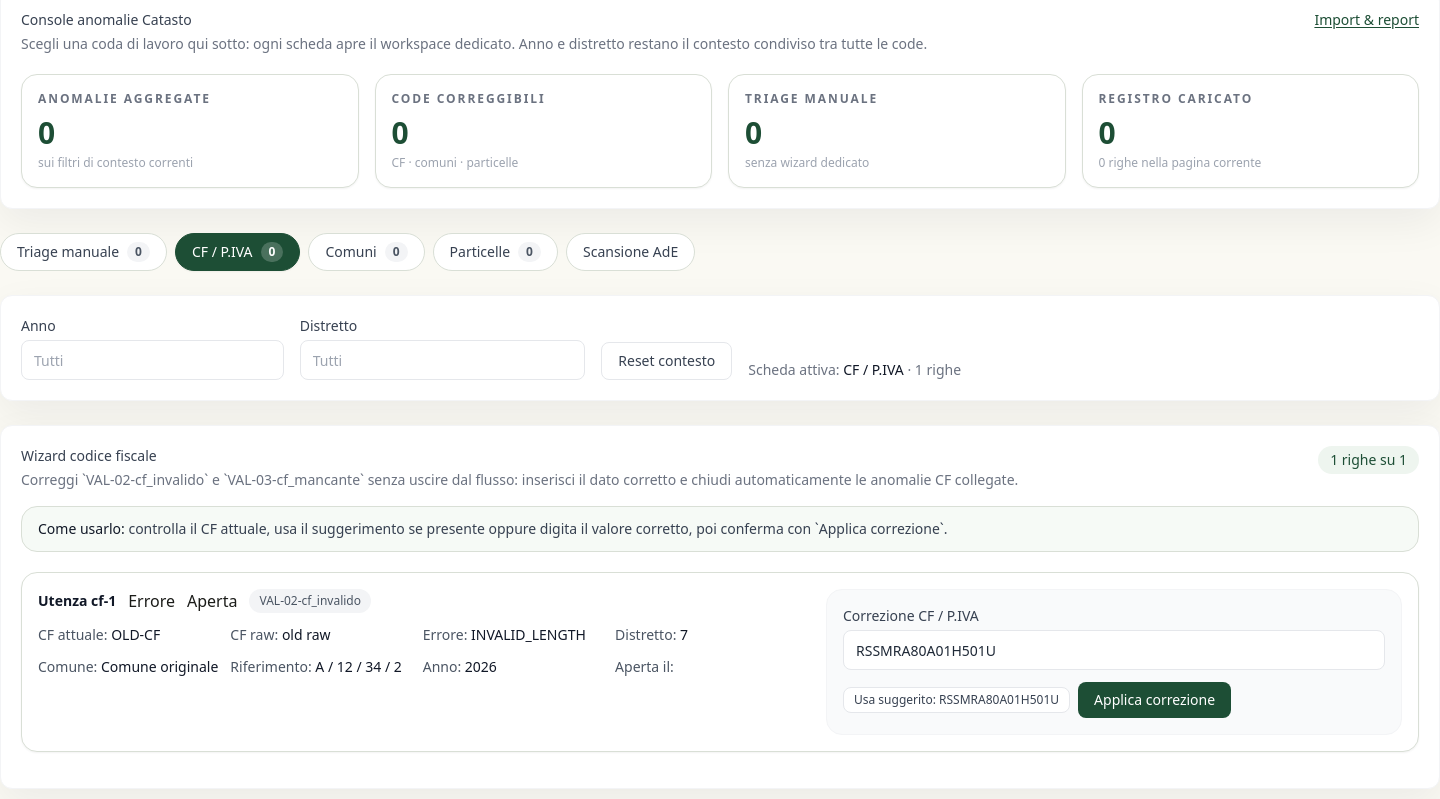
Test: R17 original Catasto CF wizard public transitions › an overview reload error is handled separately and does not relabel a successful CF mutation
expect the text "Utenza cf-1" is shown: met, box [38,591,116,611]
expect the button "Reset contesto" is enabled: met, box [601,342,732,380]
Click the button "Applica correzione" at (1155, 700), box [1078,682,1231,718]
(page scrolled)
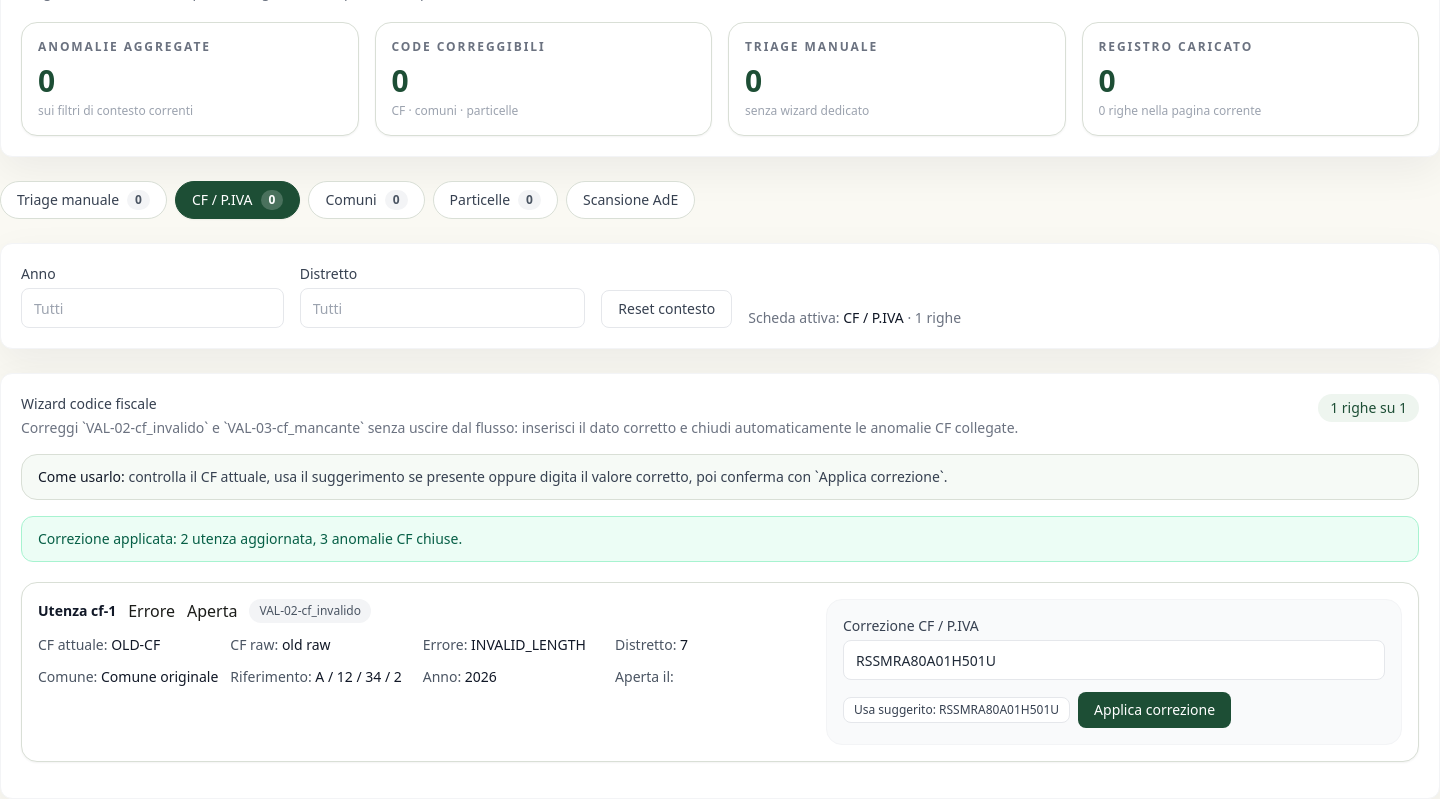
expect the button "Applica correzione" is enabled: met, box [1078,692,1231,728]
expect the text "Correzione applicata: 2 utenza aggiornata, 3 anomalie CF chiuse." is shown: met, box [21,516,1419,562]
